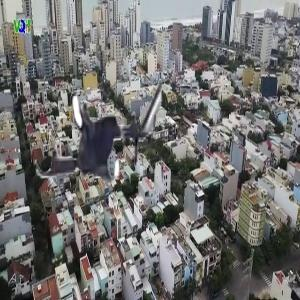drone: (30, 74, 166, 210)
